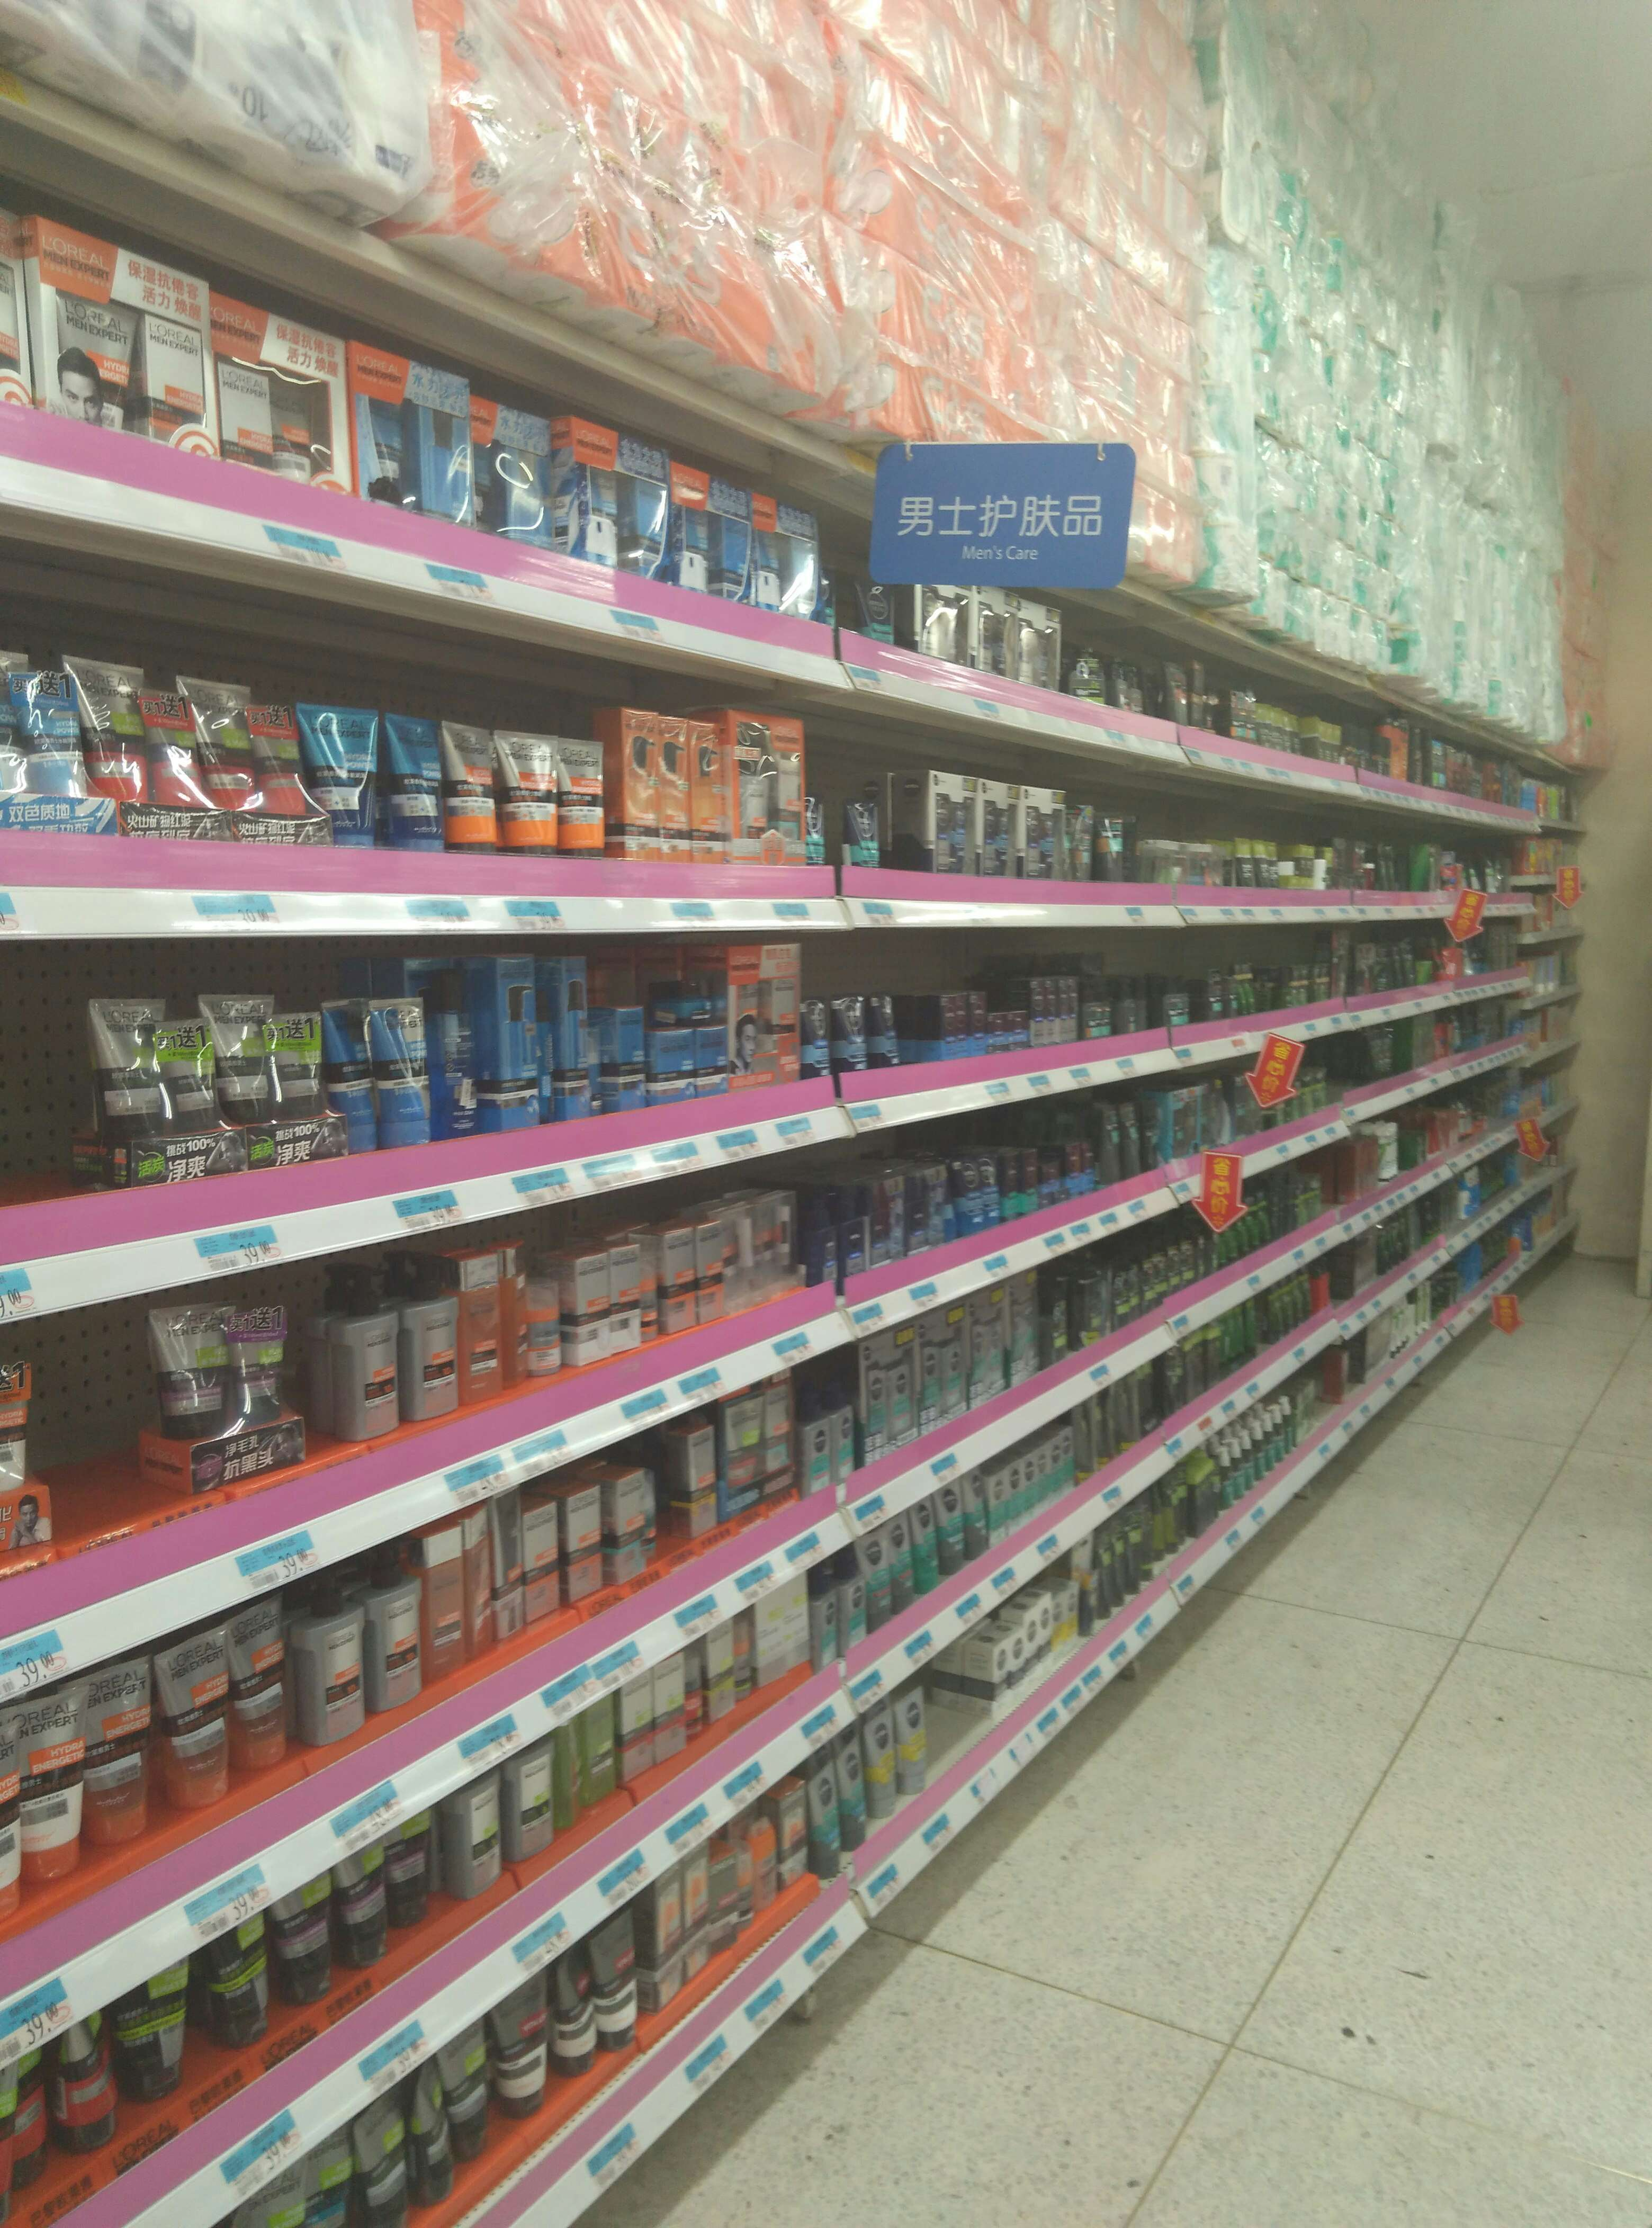Out-of-stock: (10, 1314, 184, 1537), (920, 1645, 998, 1792)
